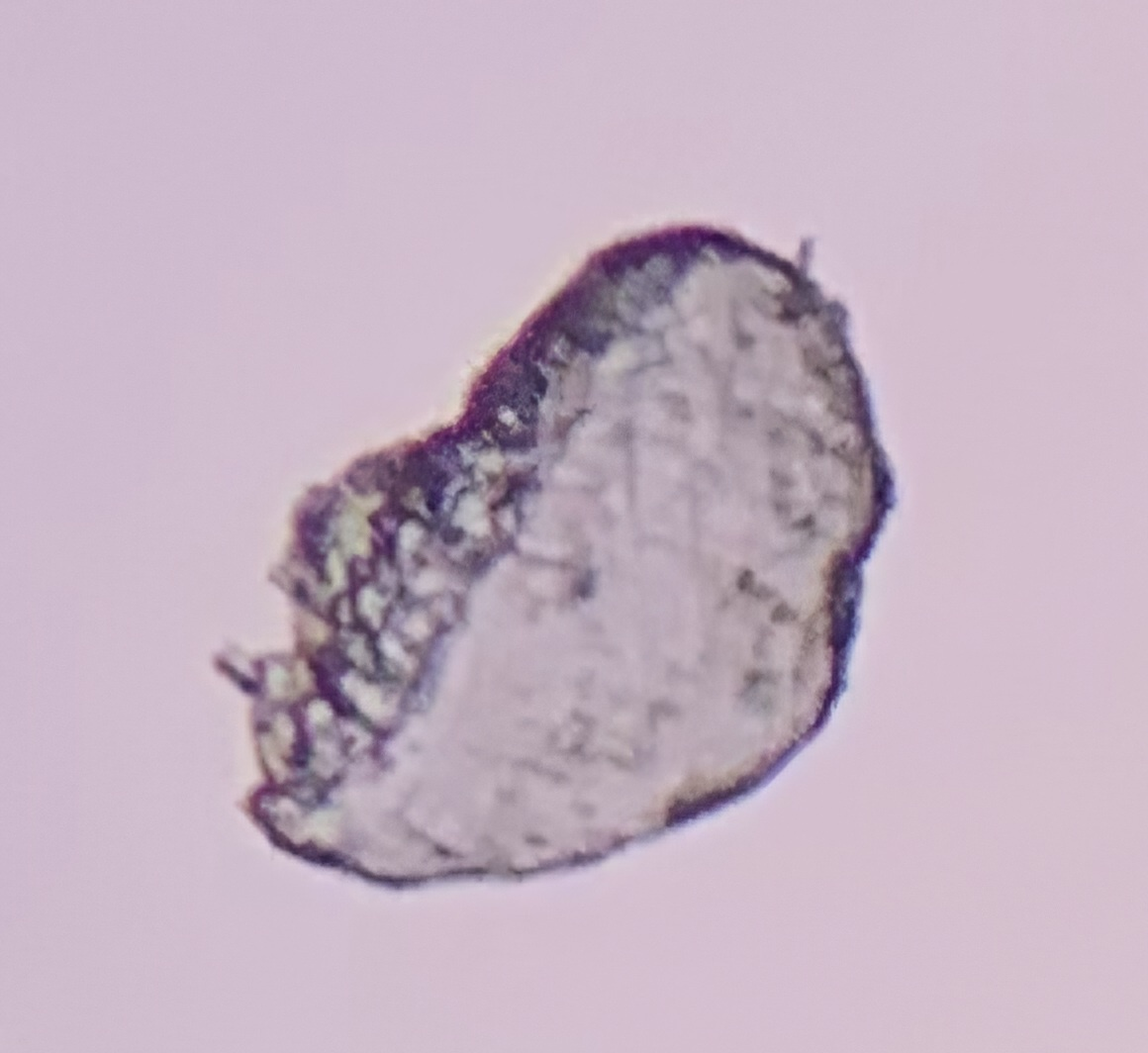microplastic: (214, 223, 895, 891)
